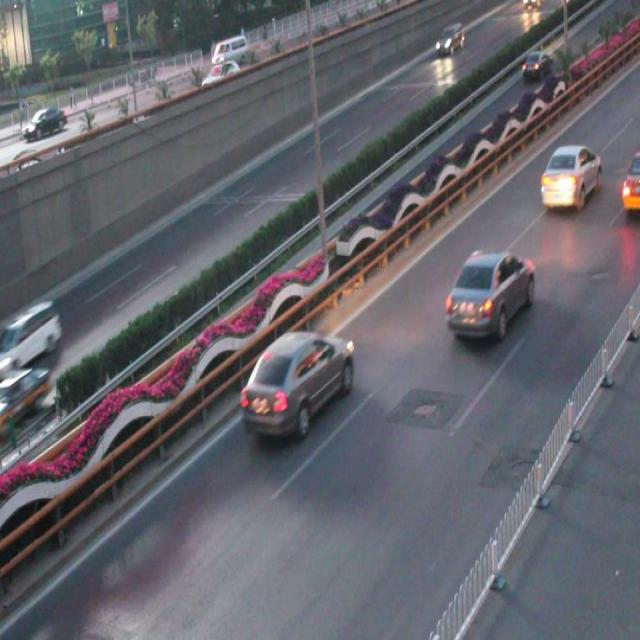car: (238, 329, 355, 433), (444, 246, 535, 336), (537, 146, 602, 211), (1, 359, 48, 435), (617, 147, 640, 213)
truck: (1, 302, 64, 362)
